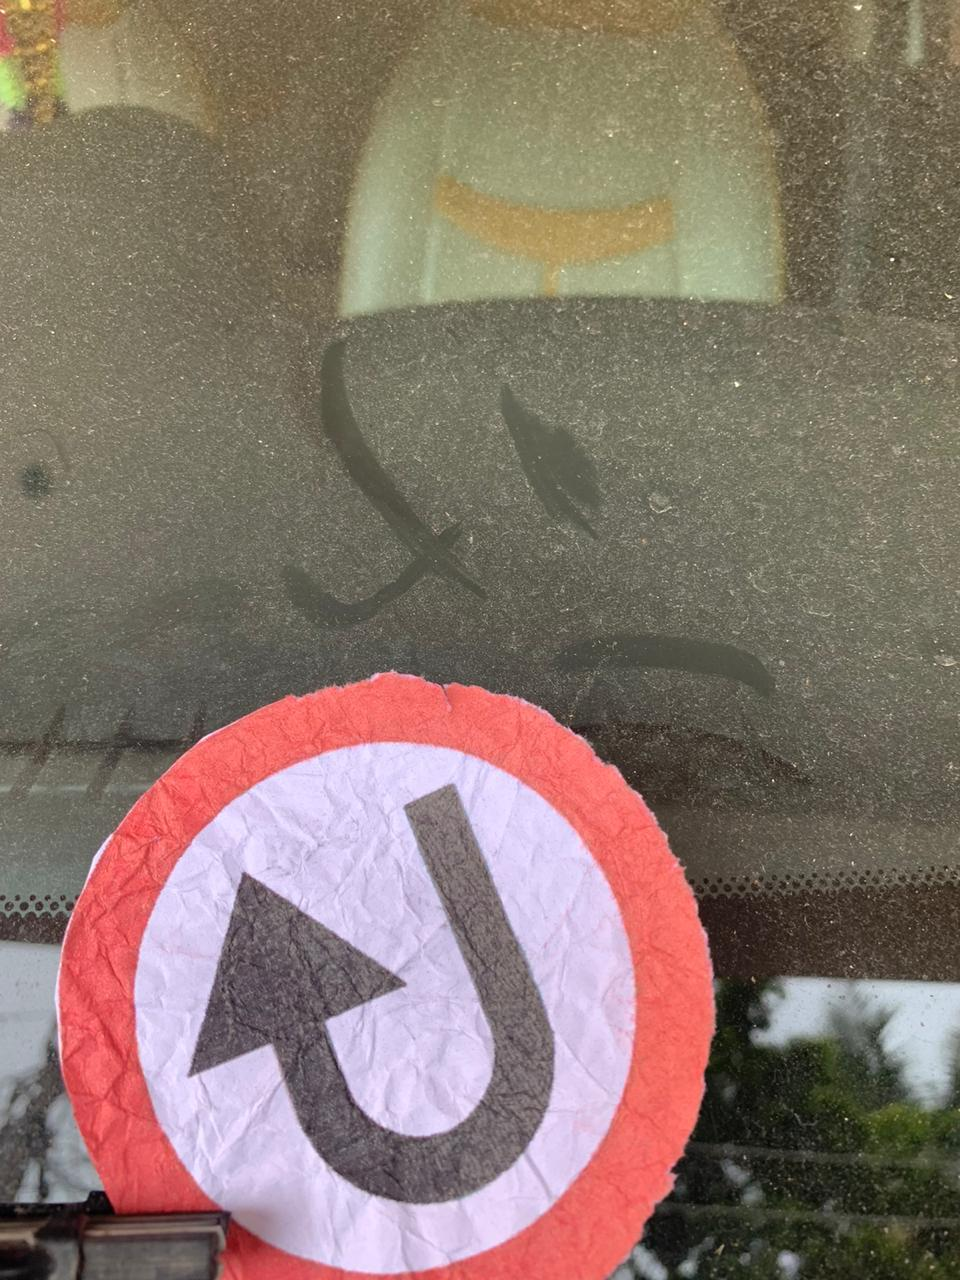U-TURN: (34, 608, 690, 1280)
